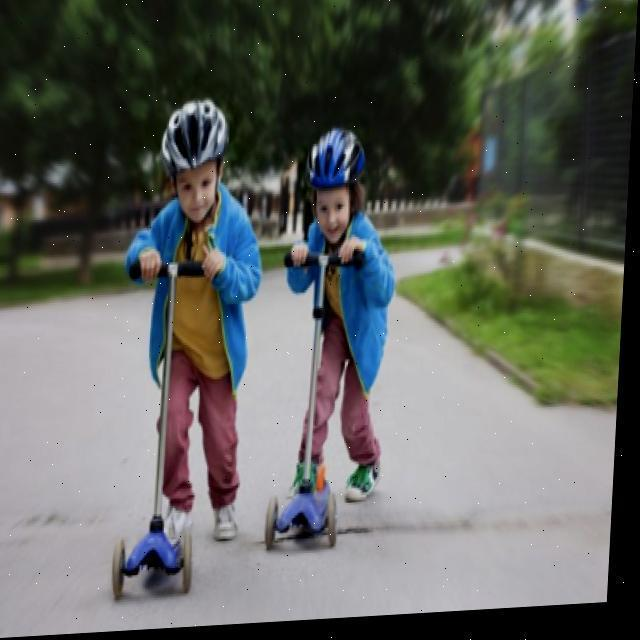Helmet: (149, 96, 237, 228), (296, 131, 378, 247)
